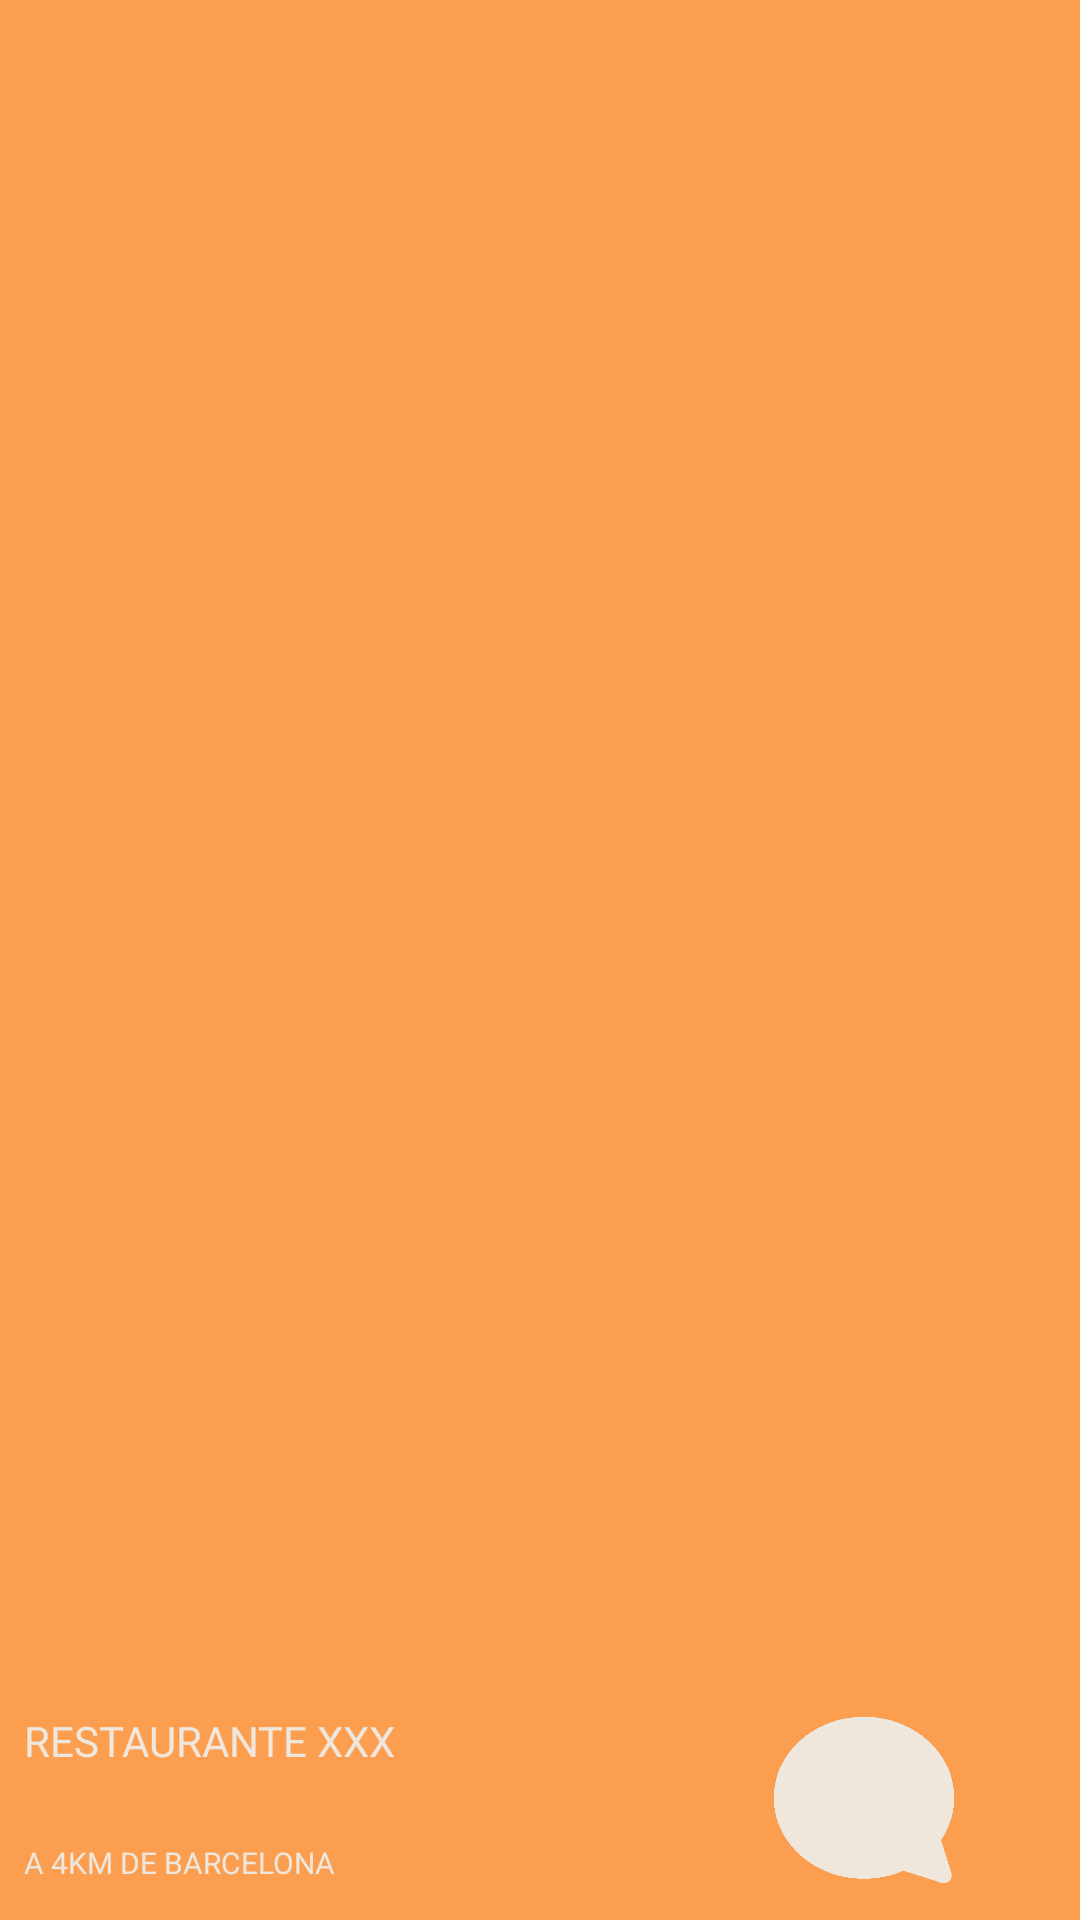

Point at icon controls on the screen. Image size 1080px×1920px, points as point (x, y).
message: point (864, 1800)
